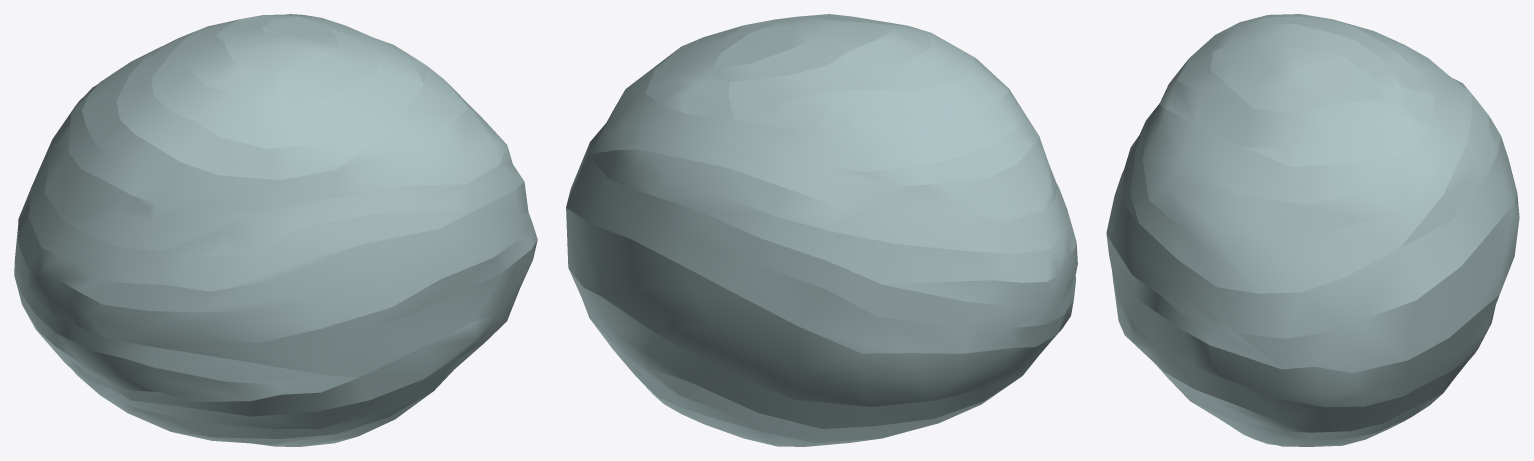
The model's file is rock_round_B.fbx.
3 renders of one model, left to right at view 1: azimuth 30°, elevation 25°; view 2: azimuth 150°, elevation 25°; view 3: azimuth 270°, elevation 25°, orthographic. The views are drawn at different scales.
Parts seen in each view (by area): view 1: rock_round_B; view 2: rock_round_B; view 3: rock_round_B.
Boxes of the visible parts, bbox=[...] form: rock_round_B: bbox=[14, 14, 537, 446]; rock_round_B: bbox=[566, 14, 1077, 446]; rock_round_B: bbox=[1106, 14, 1519, 446].
Bounding box in the file's own units: 154 × 123 × 127.
